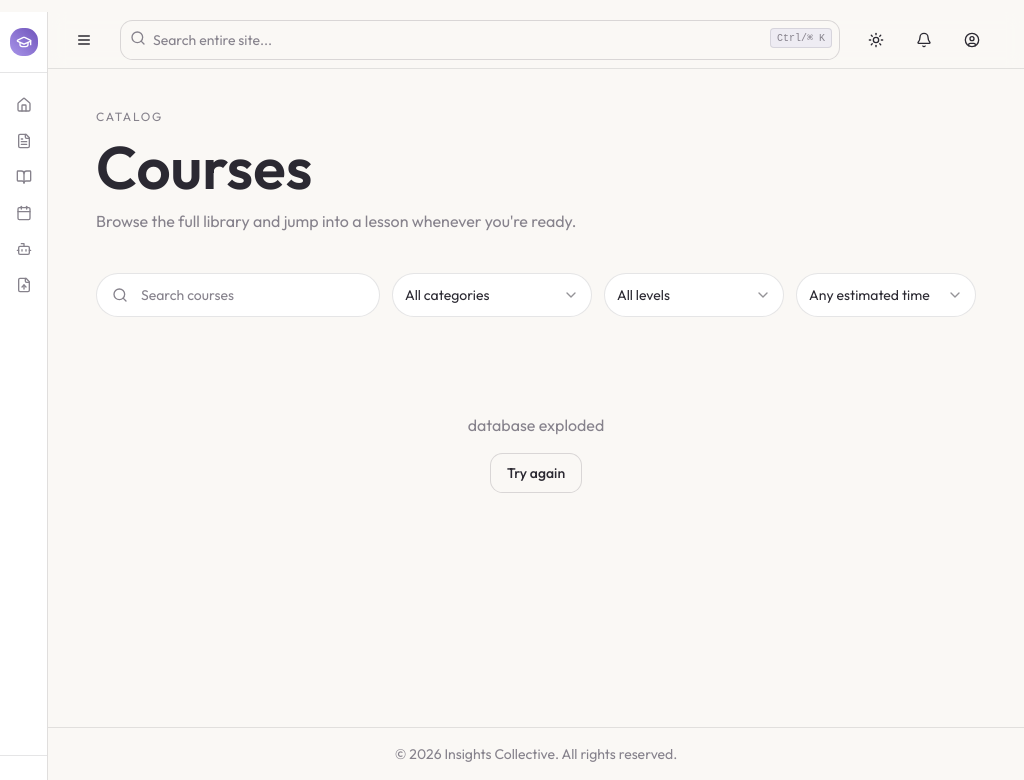
it: CourseList › surfaces a query failure as an error UI and refetches on retry
Expected: the text "database exploded" is shown, top-left (468, 415), bottom-right (604, 435)
Expected: the text "Intro to Data Analytics" is not shown
Click the button "Try again".
click(536, 473)  # box top-left (490, 453), bottom-right (582, 493)
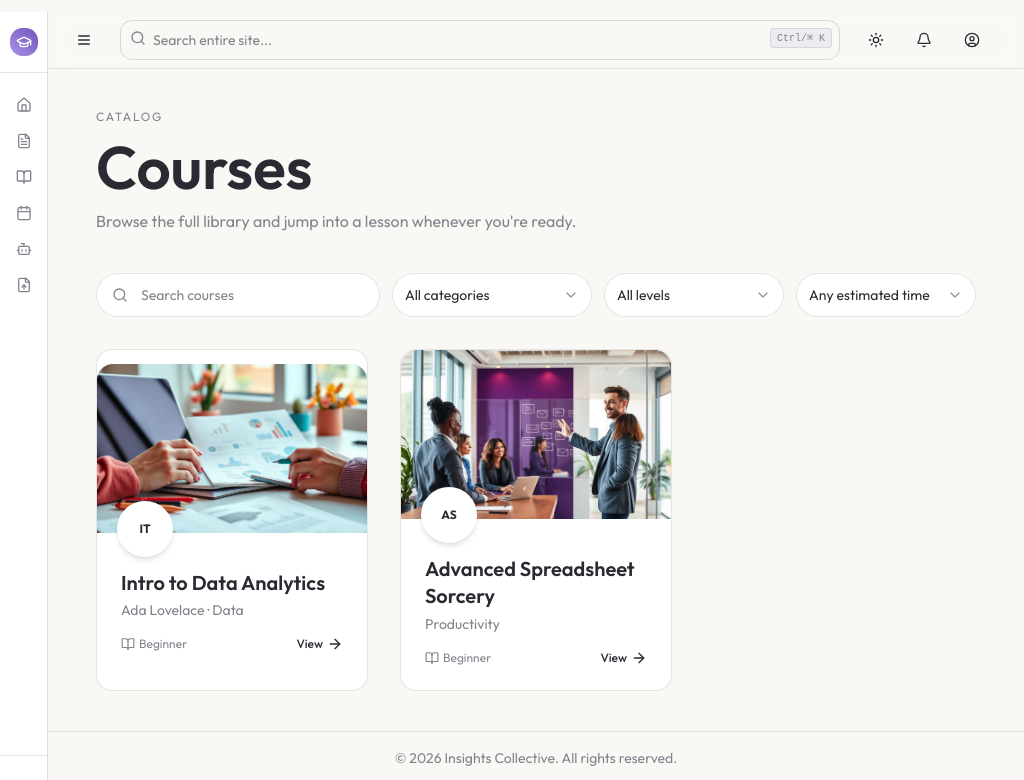
Expected: the heading "Intro to Data Analytics" is shown, top-left (121, 568), bottom-right (343, 596)
Expected: the text "database exploded" is gone
